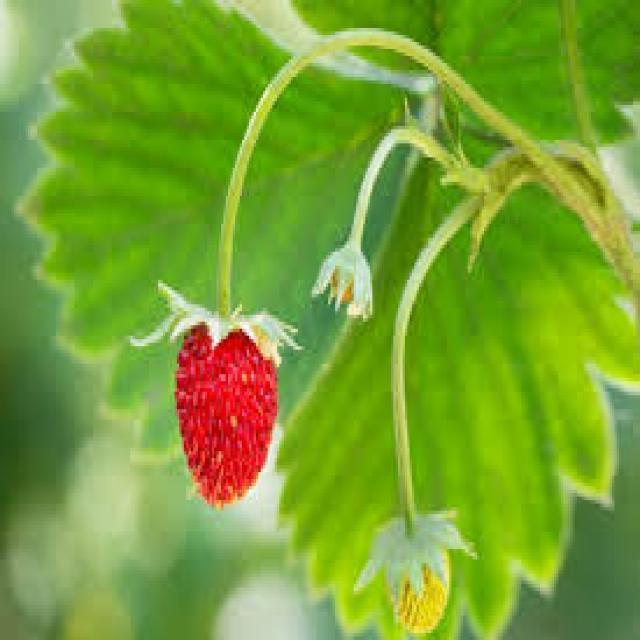Strawberry: (170, 314, 280, 502), (361, 516, 456, 638)
